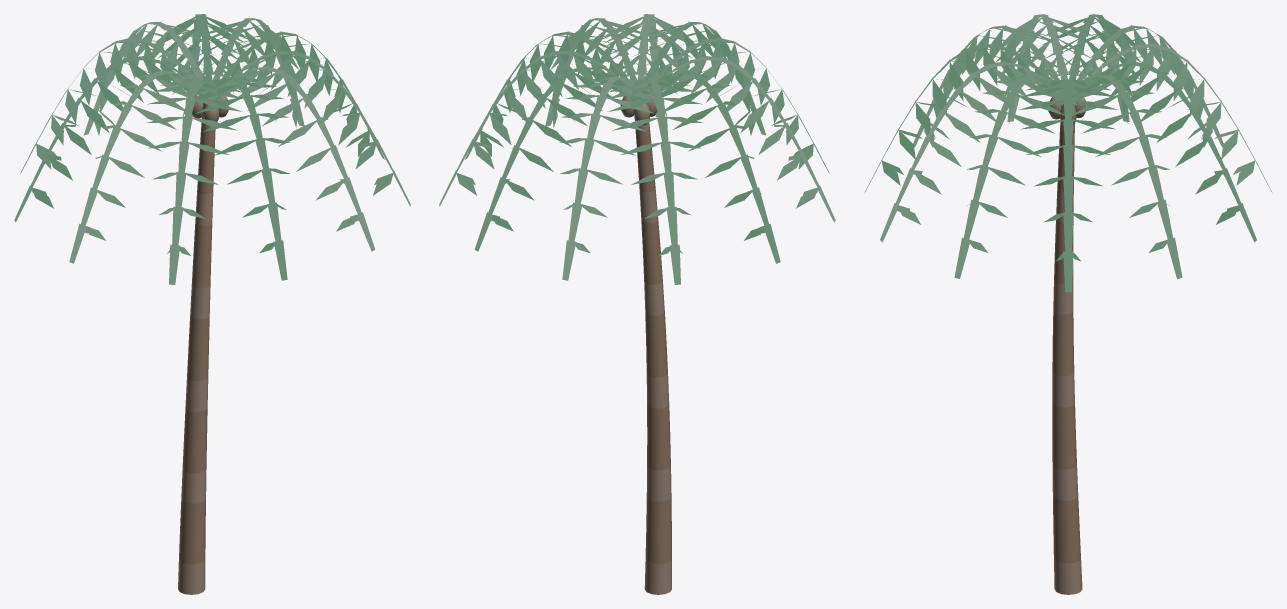
3 renders of one model, left to right at view 1: azimuth 30°, elevation 25°; view 2: azimuth 150°, elevation 25°; view 3: azimuth 270°, elevation 25°, orthographic. The views are drawn at different scales.
Visible parts, largest first — view 1: Visual; view 2: Visual; view 3: Visual.
Boxes of the visible parts, x1,y1,x2,y2 form: Visual: (14, 14, 410, 594); Visual: (439, 14, 835, 594); Visual: (864, 14, 1272, 594).
Size of the model in its own units: 10.15 by 15.17 by 10.26.
